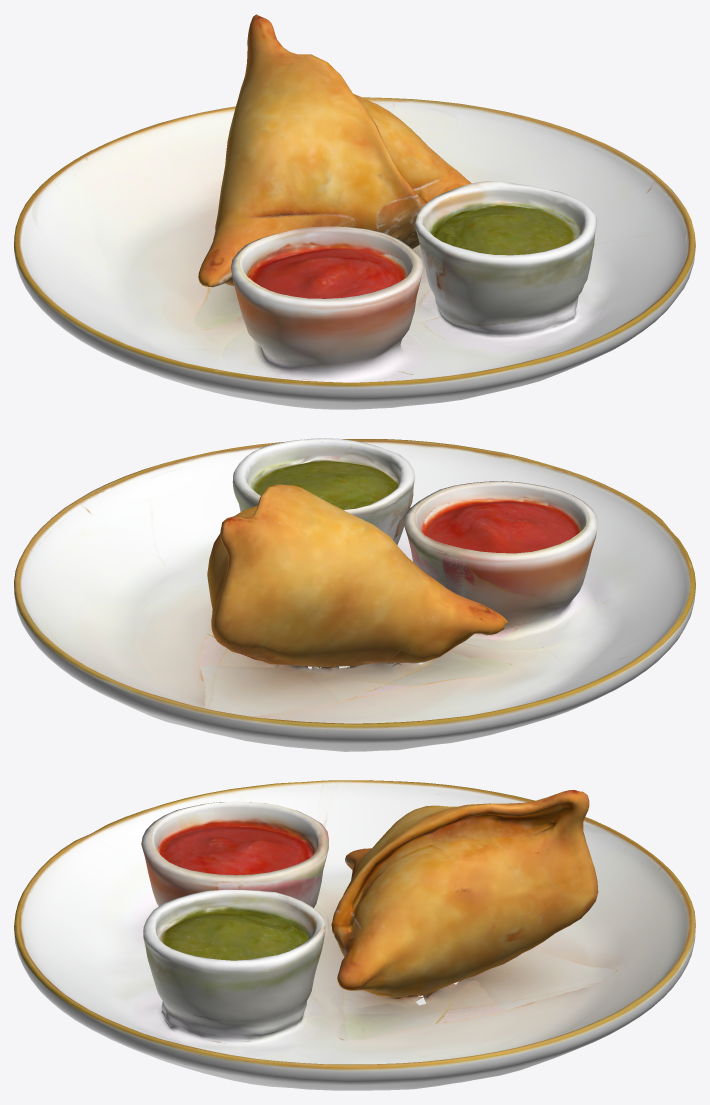
File: Samosa_0515153527_texture.fbx
3 renders of one model, top to bottom at view 1: azimuth 30°, elevation 25°; view 2: azimuth 150°, elevation 25°; view 3: azimuth 270°, elevation 25°, orthographic.
Visible parts, largest first — view 1: Mesh1; view 2: Mesh1; view 3: Mesh1.
Part boxes in pixels (left/top/right/bottom): Mesh1: left=14, top=14, right=695, bottom=409; Mesh1: left=14, top=438, right=695, bottom=751; Mesh1: left=14, top=780, right=695, bottom=1090.
Bounding box in the file's own units: 200 × 66.11 × 200.
1 material, 1 textured.
